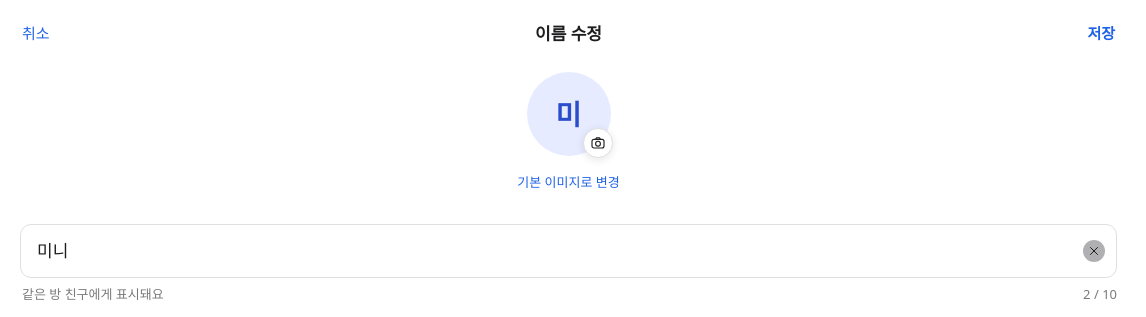
ProfileEditPage › 비어 있으면 저장이 비활성되고, 한 글자만 넣어도 활성된다
Clear the field named "이름" at (568, 251), box 20,224 -> 1117,278
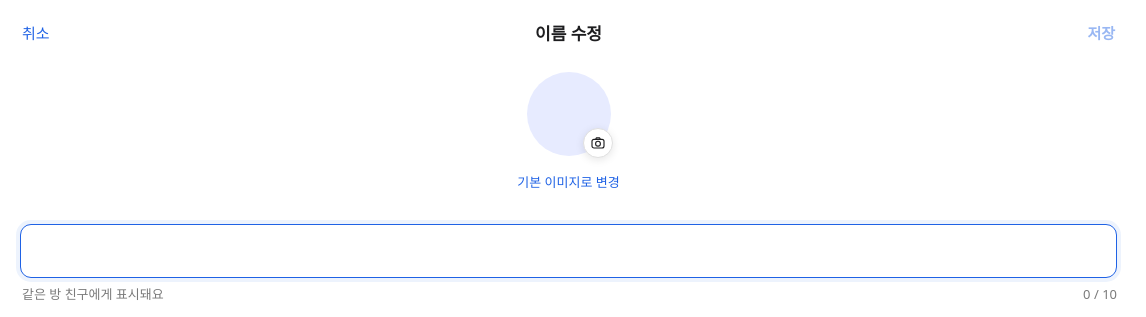
Expected: the button "저장" is disabled, 1073,15 -> 1129,53
Type "미" into the field named "이름" at (568, 251), box 20,224 -> 1117,278
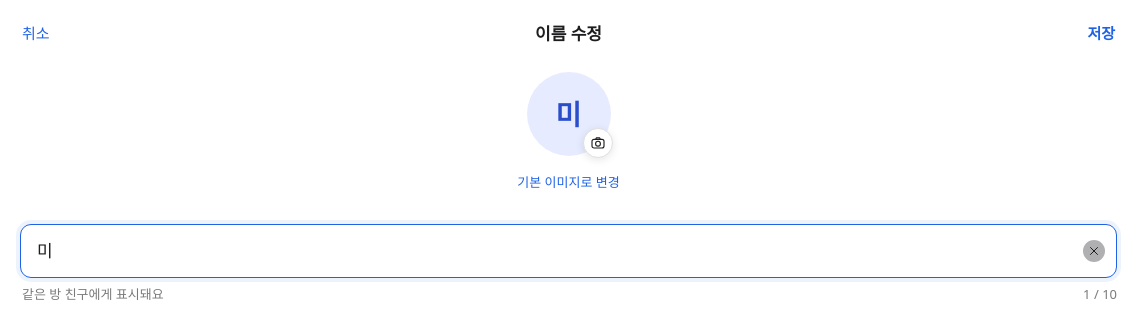
Expected: the button "저장" is enabled, 1073,15 -> 1129,53
